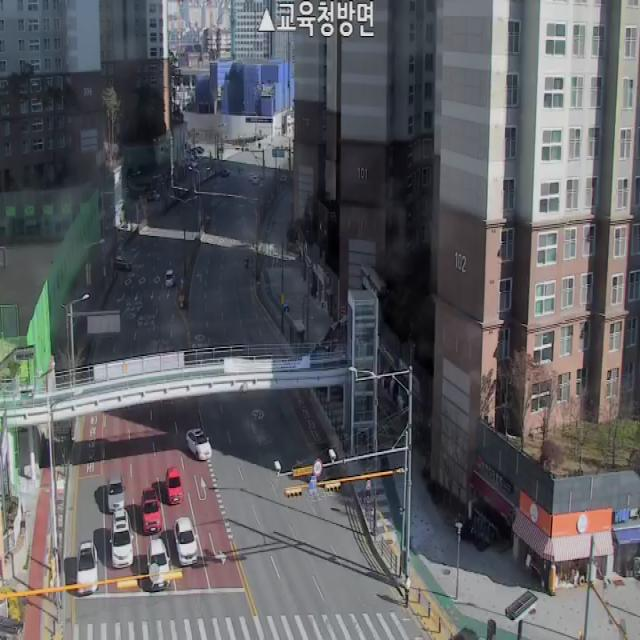Car: (110, 509, 134, 569), (174, 517, 198, 566), (77, 542, 98, 594), (148, 539, 170, 587), (142, 487, 162, 535), (186, 429, 212, 460), (107, 473, 125, 514), (166, 468, 184, 505), (113, 257, 132, 271), (166, 268, 174, 286)
